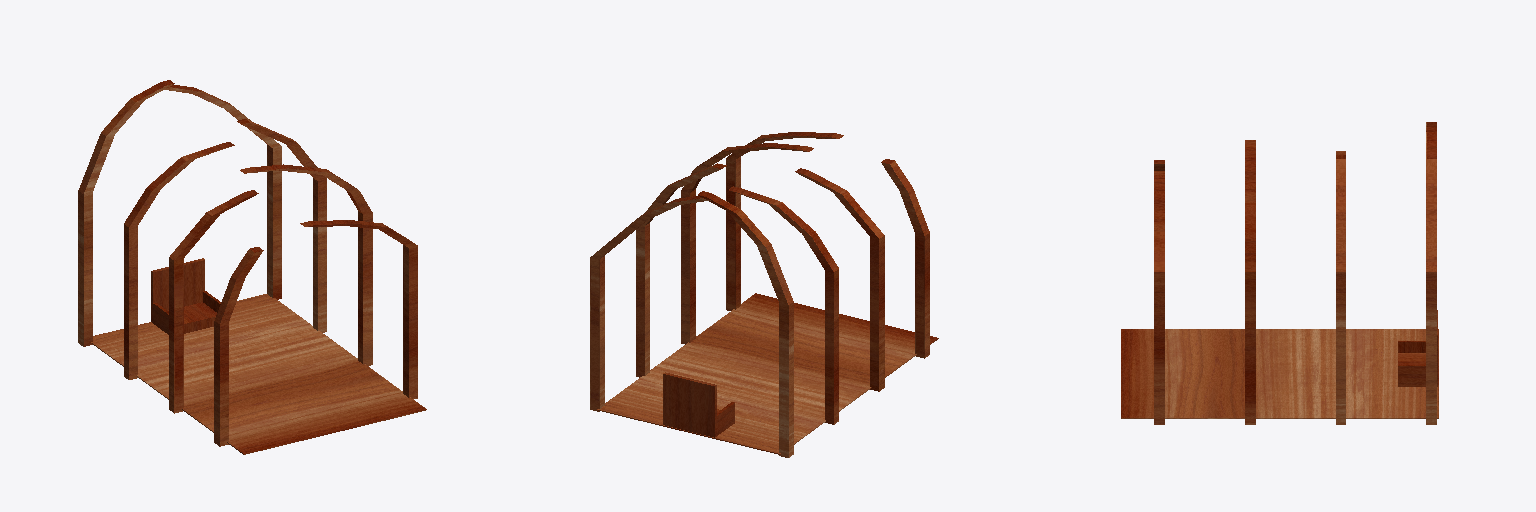
3 views of the same model, side by side, from view 1: azimuth 30°, elevation 25°; view 2: azimuth 150°, elevation 25°; view 3: azimuth 270°, elevation 25° (orthographic).
Visible parts, largest first — view 1: pCube11; view 2: pCube11; view 3: pCube11.
Part boxes in pixels (x1,y1,x2,y2): pCube11: (78,80,426,454); pCube11: (590,132,938,457); pCube11: (1121,122,1438,424).
Bounding box in the file's own units: 21.64 × 25.16 × 30.
Materials: 1 (1 with a texture image).